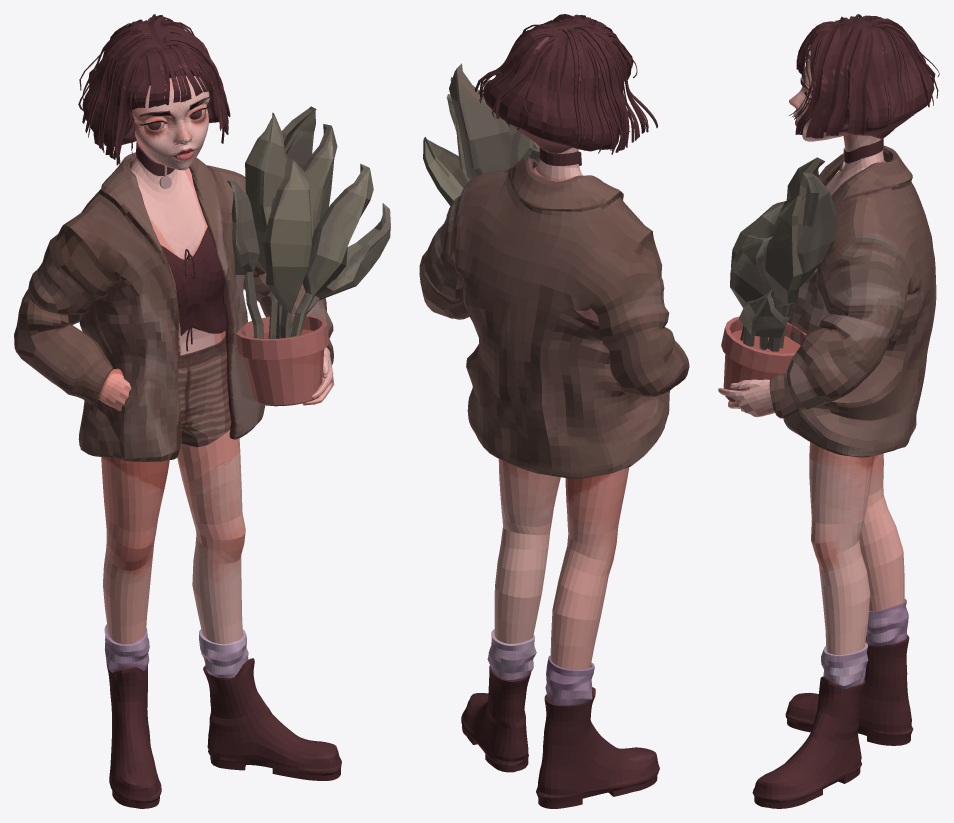
File: girl.glb
3 renders of one model, left to right at view 1: azimuth 30°, elevation 25°; view 2: azimuth 150°, elevation 25°; view 3: azimuth 270°, elevation 25°, orthographic. The views are drawn at different scales.
Parts seen in each view (by area): view 1: polySurface80, polySurface74, polySurface87, polySurface67, polySurface86, polySurface66, polySurface75, polySurface68, polySurface85, polySurface76, polySurface69, hairStrands_v2:polySurface28 (+7 smaller); view 2: polySurface80, polySurface74, hairStrands_v2:polySurface28, polySurface86, polySurface87, polySurface102, polySurface77, polySurface62, polySurface78, polySurface69, polySurface60, polySurface37 (+1 smaller); view 3: polySurface80, polySurface74, polySurface87, polySurface86, hairStrands_v2:polySurface28, polySurface67, polySurface72, polySurface102, polySurface68, polySurface62, polySurface77, polySurface78 (+15 smaller).
Part boxes in pixels (bbox=[...]): polySurface80: bbox=[14, 152, 333, 461]; polySurface74: bbox=[101, 143, 245, 644]; polySurface87: bbox=[203, 658, 341, 780]; polySurface67: bbox=[236, 315, 328, 406]; polySurface86: bbox=[107, 665, 161, 808]; polySurface66: bbox=[262, 158, 311, 338]; polySurface75: bbox=[178, 331, 231, 447]; polySurface68: bbox=[290, 163, 373, 336]; polySurface85: bbox=[131, 75, 209, 170]; polySurface76: bbox=[161, 227, 226, 336]; polySurface69: bbox=[245, 112, 287, 338]; hairStrands_v2:polySurface28: bbox=[82, 19, 219, 146]; polySurface80: bbox=[419, 157, 689, 478]; polySurface74: bbox=[494, 147, 629, 669]; hairStrands_v2:polySurface28: bbox=[483, 17, 624, 153]; polySurface86: bbox=[536, 687, 659, 808]; polySurface87: bbox=[461, 665, 531, 772]; polySurface102: bbox=[449, 63, 512, 179]; polySurface77: bbox=[545, 655, 594, 705]; polySurface62: bbox=[423, 137, 468, 205]; polySurface78: bbox=[487, 629, 536, 679]; polySurface69: bbox=[484, 79, 534, 167]; polySurface60: bbox=[539, 147, 581, 165]; polySurface37: bbox=[581, 27, 628, 150]; polySurface80: bbox=[769, 145, 936, 457]; polySurface74: bbox=[809, 134, 904, 654]; polySurface87: bbox=[752, 676, 865, 808]; polySurface86: bbox=[785, 634, 913, 745]; hairStrands_v2:polySurface28: bbox=[810, 17, 934, 138]; polySurface67: bbox=[721, 316, 806, 401]; polySurface72: bbox=[765, 194, 805, 351]; polySurface102: bbox=[767, 172, 837, 349]; polySurface68: bbox=[730, 235, 774, 346]; polySurface62: bbox=[738, 289, 789, 350]; polySurface77: bbox=[866, 599, 908, 646]; polySurface78: bbox=[821, 642, 868, 689].
Bounding box in the file's own units: 0.8265 × 1.91 × 0.5297.
Materials: 1 (1 with a texture image).
